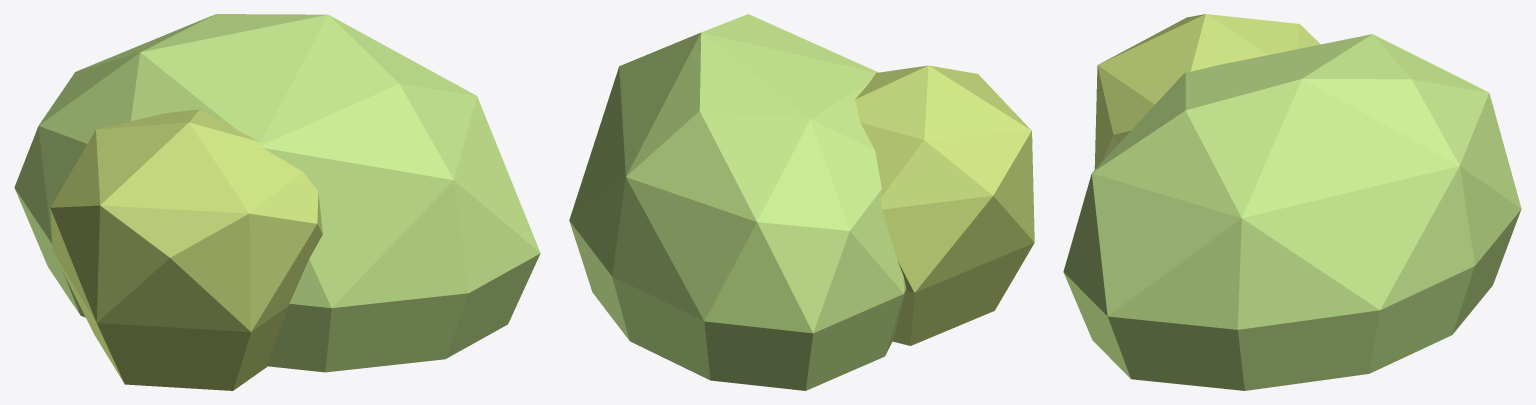
The model's file is Bush_d_m_06.fbx.
3 views of the same model, side by side, from view 1: azimuth 30°, elevation 25°; view 2: azimuth 150°, elevation 25°; view 3: azimuth 270°, elevation 25° (orthographic). The views are drawn at different scales.
Visible parts, largest first — view 1: Bush_d_m_06; view 2: Bush_d_m_06; view 3: Bush_d_m_06.
Part boxes in pixels (x1,y1,x2,y2): Bush_d_m_06: (14,14,540,390); Bush_d_m_06: (569,14,1034,390); Bush_d_m_06: (1063,14,1521,390).
Size of the model in its own units: 1.68 by 0.999 by 1.6.
